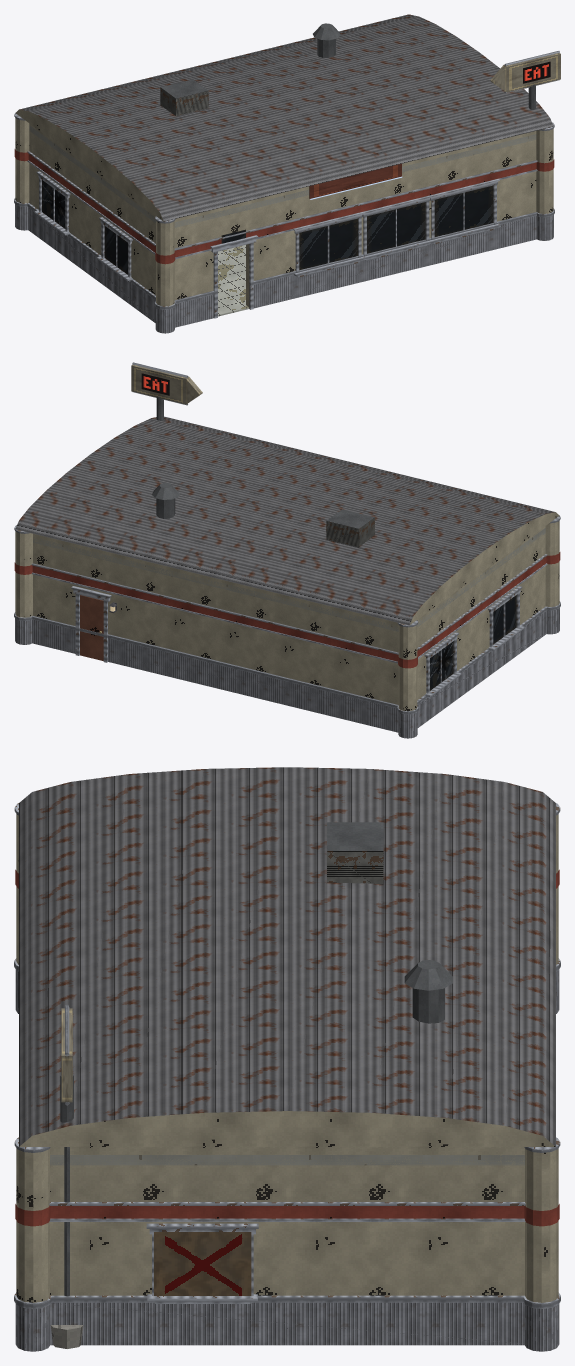
Rendered from diner.glb.
The picture shows the model from 3 angles, top to bottom: view 1: azimuth 30°, elevation 25°; view 2: azimuth 150°, elevation 25°; view 3: azimuth 270°, elevation 25°; orthographic projection. The views are drawn at different scales.
Visible parts, largest first — view 1: detail, shell-col; view 2: detail, shell-col; view 3: detail, shell-col.
Boxes of the visible parts, <box> form: detail: <box>14,14,560,333</box>; shell-col: <box>29,125,536,316</box>; detail: <box>14,362,560,738</box>; shell-col: <box>33,528,545,704</box>; detail: <box>14,767,560,1351</box>; shell-col: <box>50,1155,524,1295</box>.
Size of the model in its own units: 15.24 by 6.12 by 9.68.
25 materials, 25 textured.
